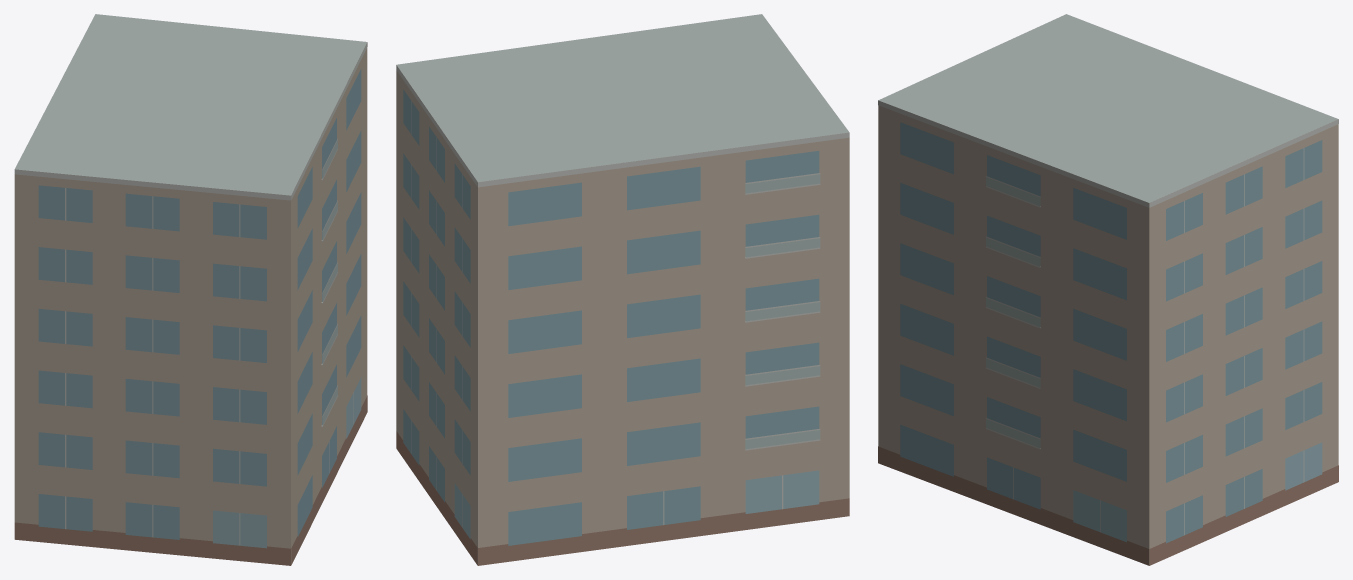
Rendered from survey-upis-32878069.glb.
3 views of the same model, side by side, from view 1: azimuth 30°, elevation 25°; view 2: azimuth 150°, elevation 25°; view 3: azimuth 270°, elevation 25° (orthographic). The views are drawn at different scales.
Visible parts, largest first — view 1: survey-upis-32878069.tmp; view 2: survey-upis-32878069.tmp; view 3: survey-upis-32878069.tmp.
Boxes of the visible parts, left/top/right/bottom form: survey-upis-32878069.tmp: left=14, top=14, right=367, bottom=565; survey-upis-32878069.tmp: left=396, top=14, right=849, bottom=565; survey-upis-32878069.tmp: left=878, top=14, right=1338, bottom=565.
Size of the model in its own units: 20.45 by 18.3 by 21.06.
